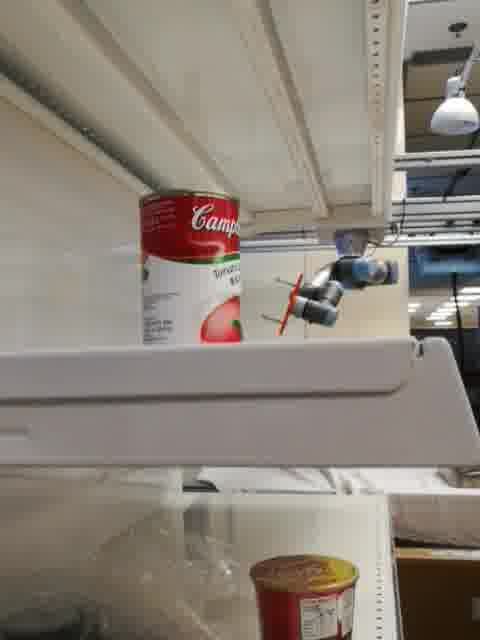tomatosoup: (138, 188, 246, 348)
